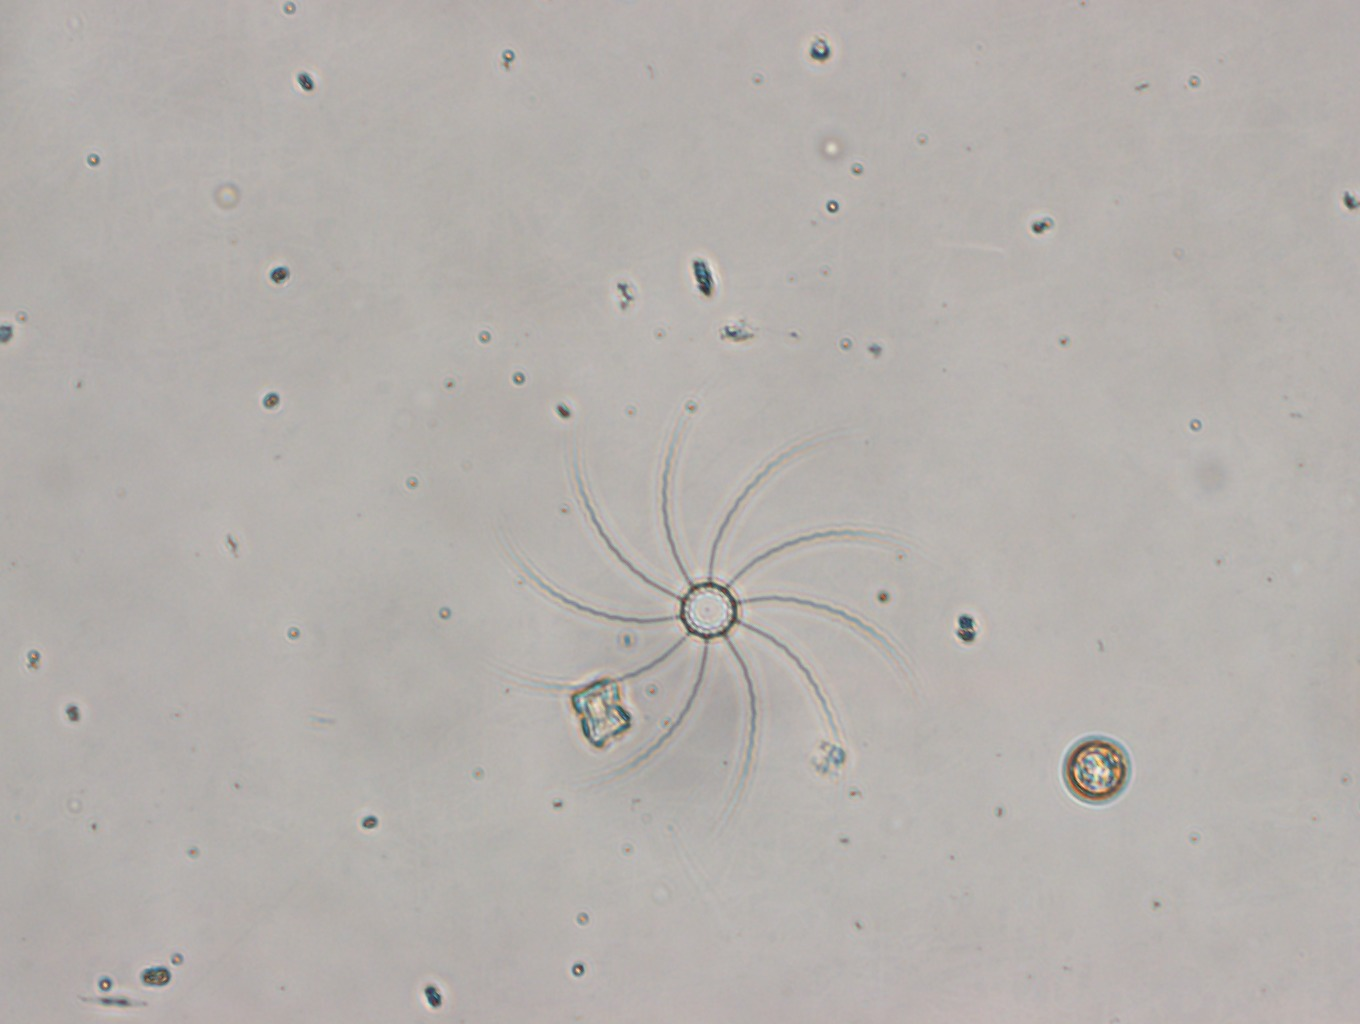bacteriastrum: (491, 381, 924, 834)
